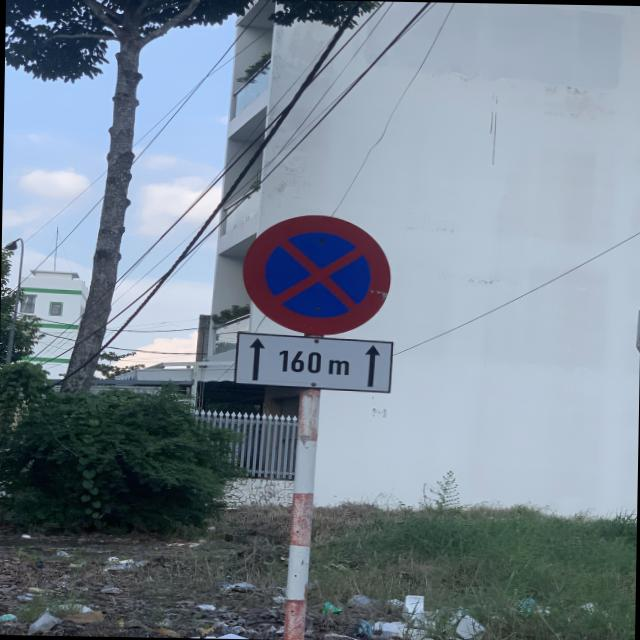Cam_Dung_Va_Dau_Xe: (240, 214, 393, 337)
